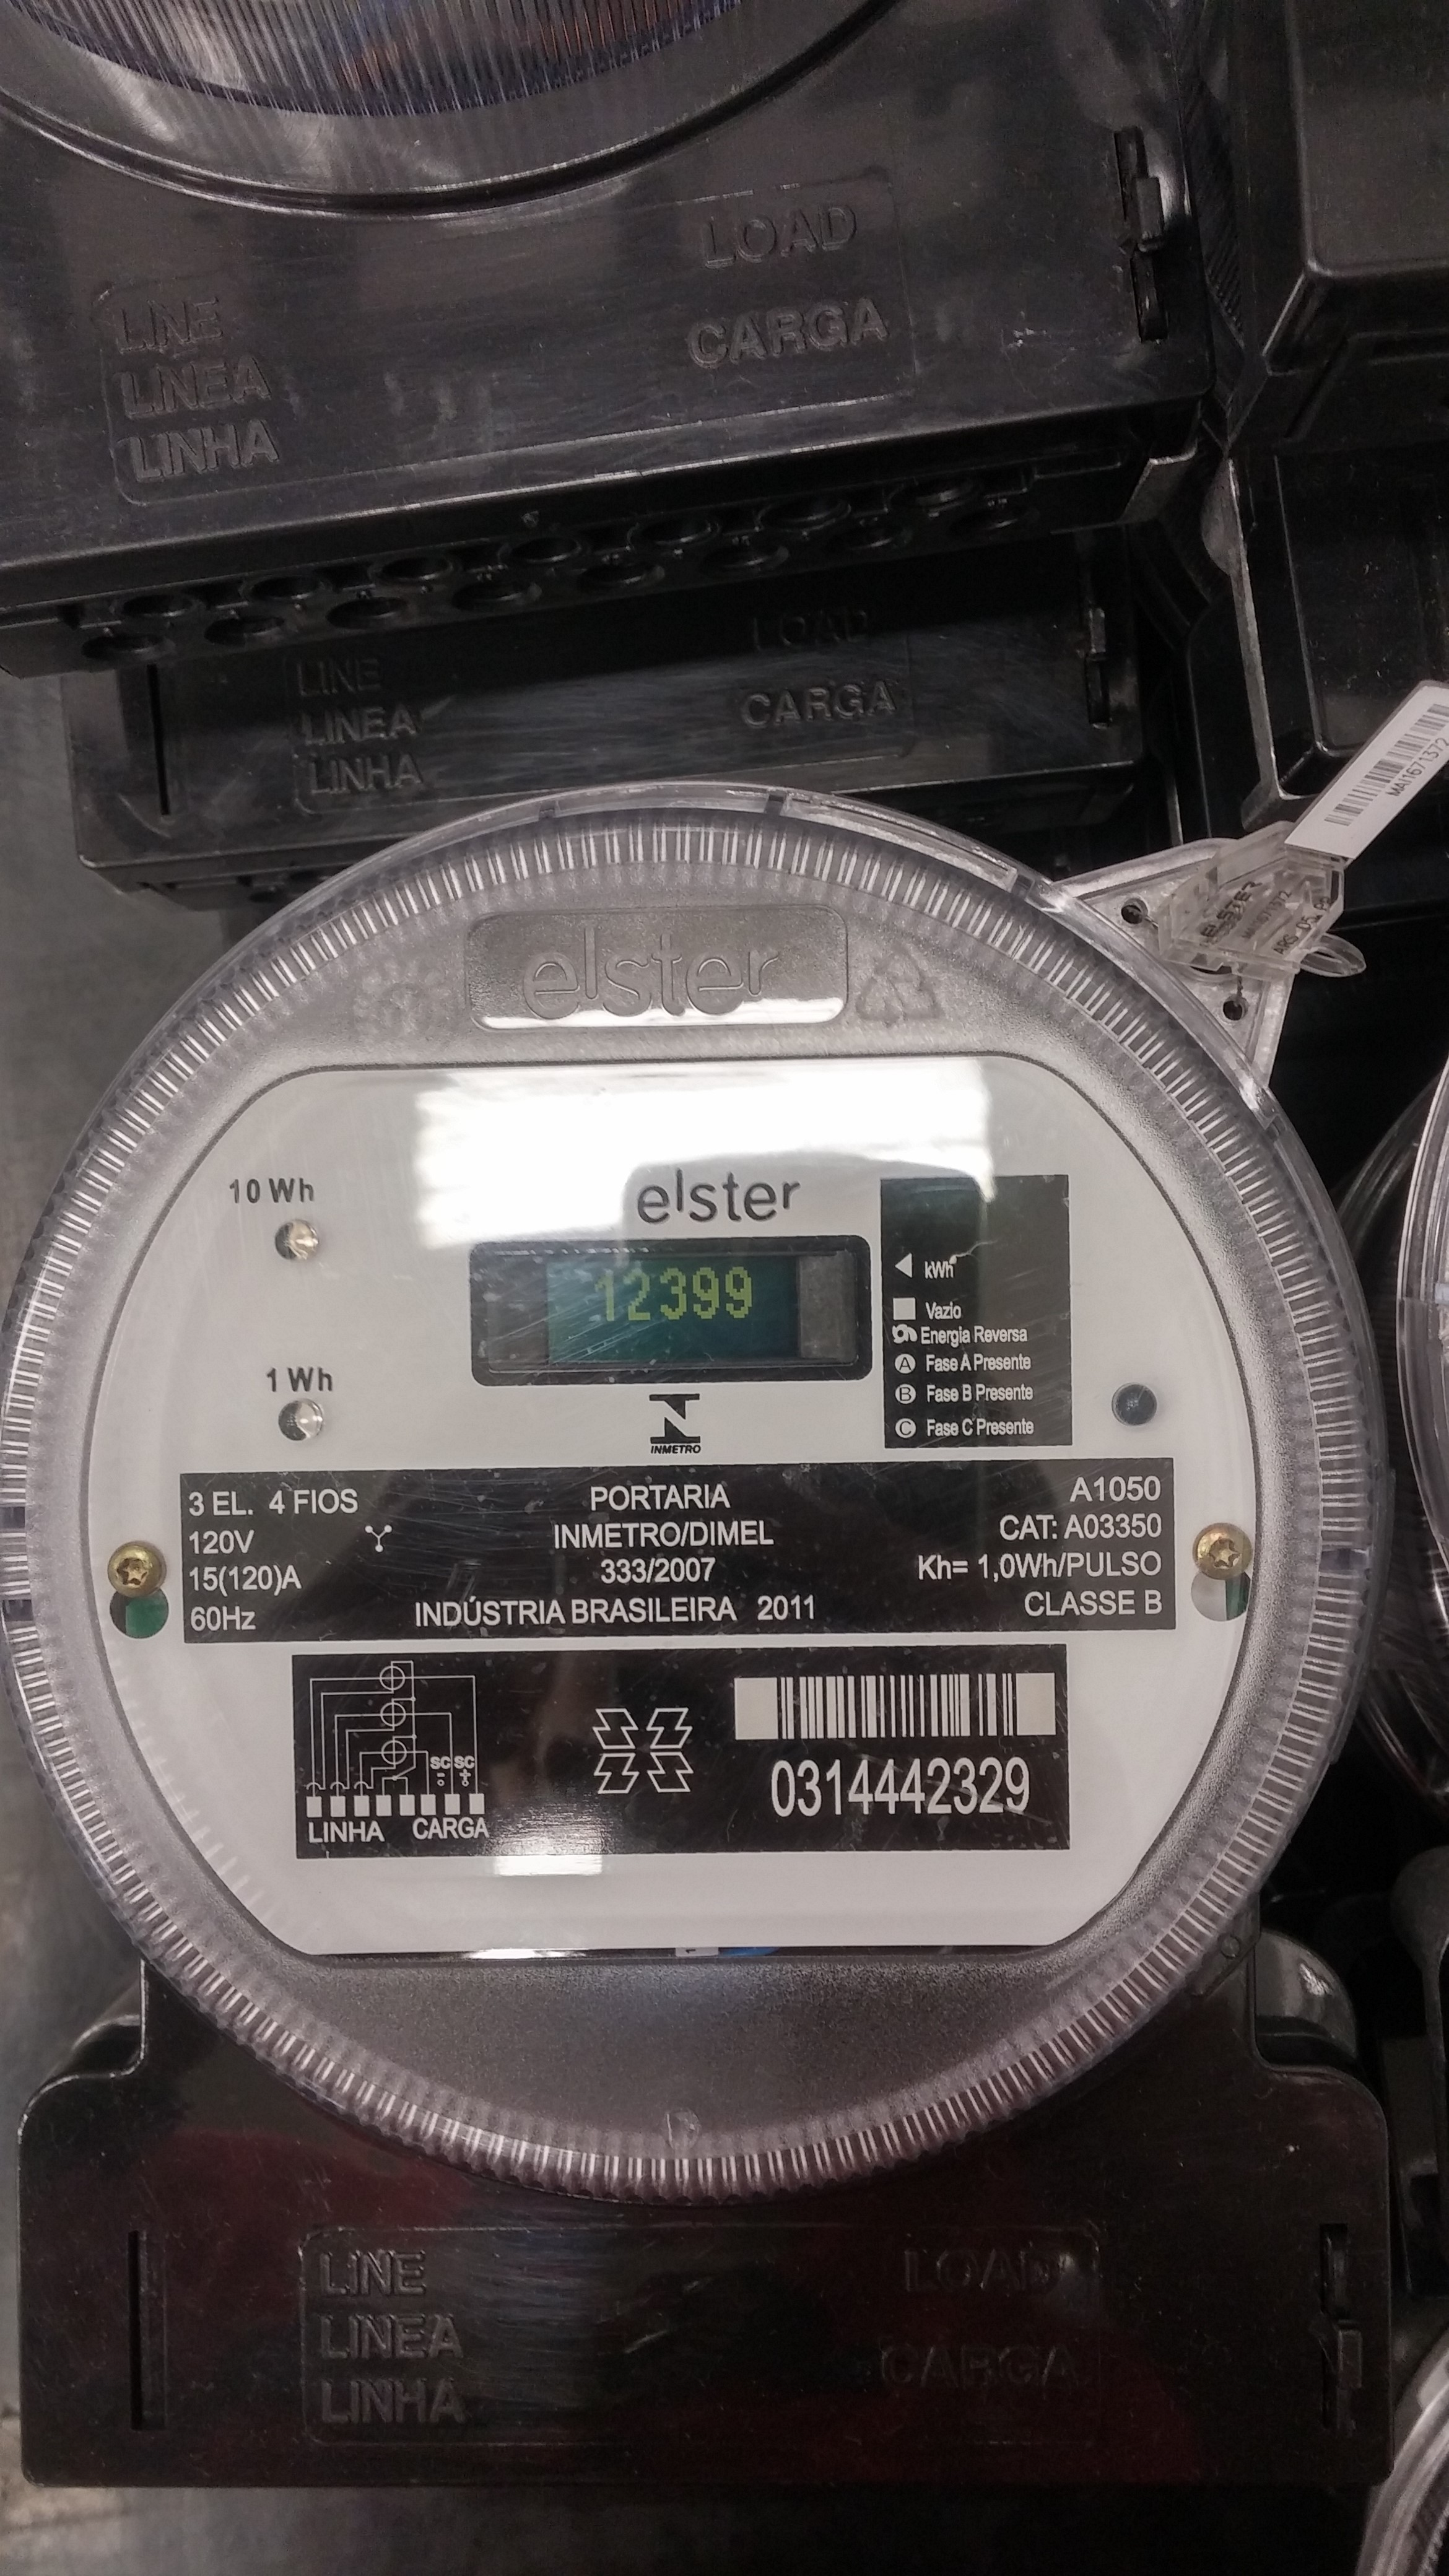counter: (456, 1228, 881, 1394)
